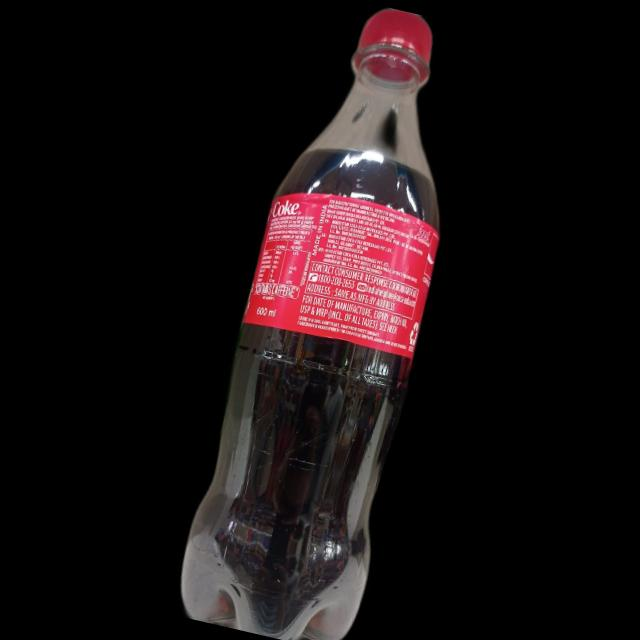Coca-Cola-600 ml-: (168, 0, 498, 640)
